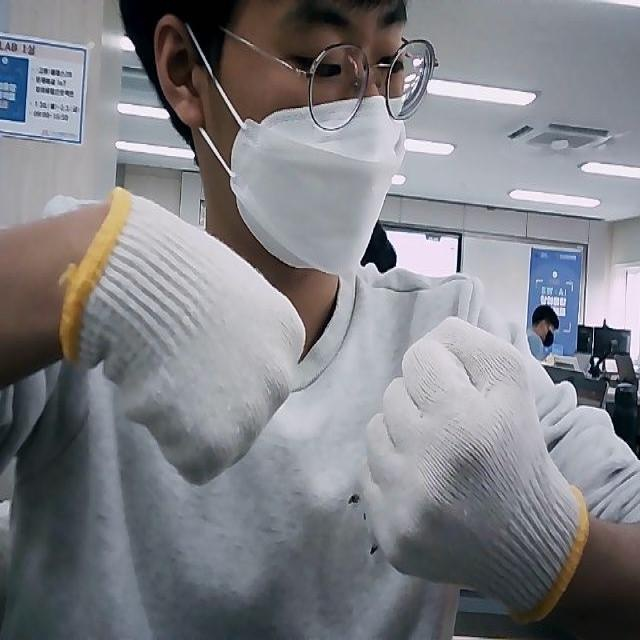Guantes: (60, 188, 307, 485), (354, 312, 591, 616)
